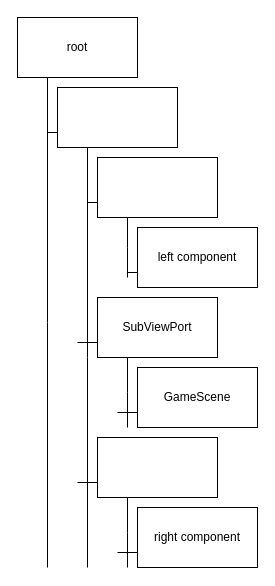
Some shapes in this 275 by 586 pixel diagram are drawn without their labels. The centre of each missing label's shape, as x and y in pixels:
"left side" belongs at point (157, 187).
"right side" belongs at point (157, 467).
"vbox" belongs at point (117, 117).
